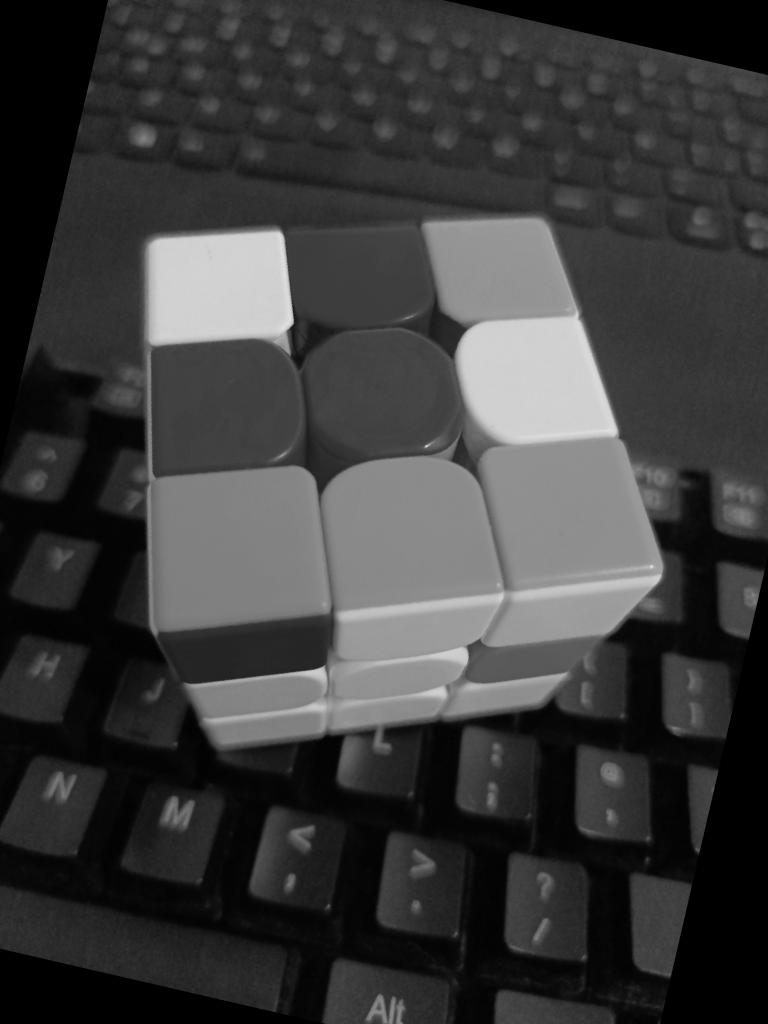rubik: (35, 126, 738, 840)
